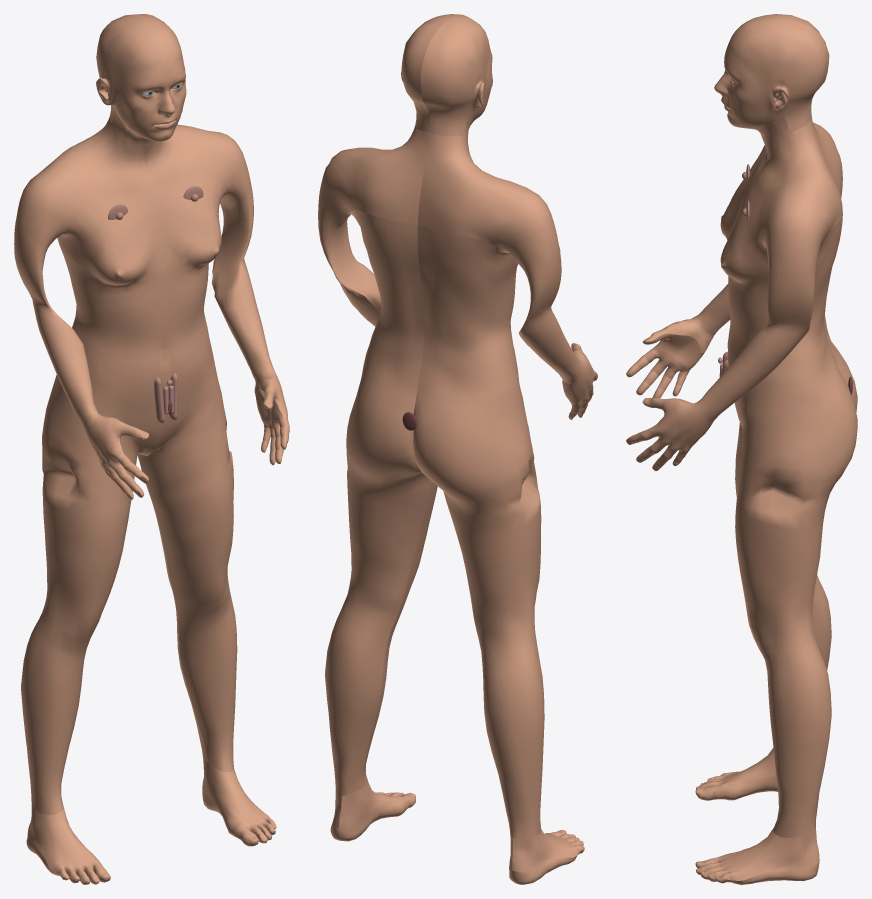
File: body-erwachsener-divers-vulva-brueste-real-v3.glb
3 views of the same model, side by side, from view 1: azimuth 30°, elevation 25°; view 2: azimuth 150°, elevation 25°; view 3: azimuth 270°, elevation 25° (orthographic).
Parts seen in each view (by area): view 1: real-human-body; view 2: real-human-body; view 3: real-human-body.
Boxes of the visible parts, x1,y1,x2,y2 form: real-human-body: [14, 14, 289, 884]; real-human-body: [318, 14, 597, 884]; real-human-body: [626, 14, 857, 884].
Bounding box in the file's own units: 0.5061 × 1.72 × 0.442.
Materials: 8 (1 with a texture image).
